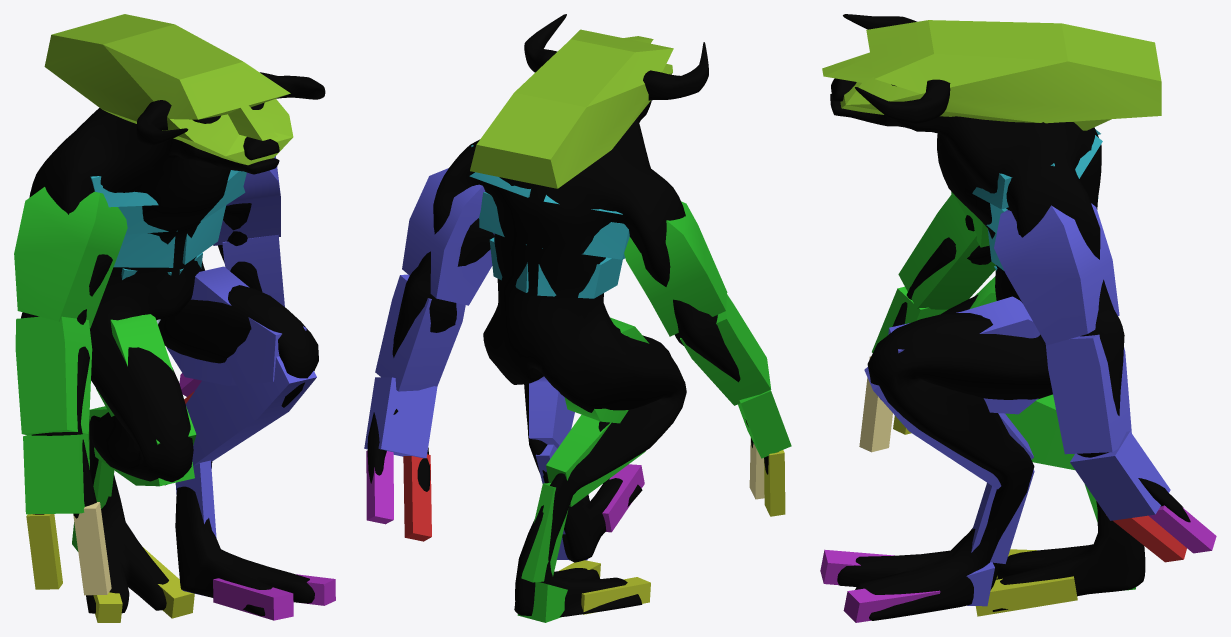
Rendered from Monstre.glb.
3 views of the same model, side by side, from view 1: azimuth 30°, elevation 25°; view 2: azimuth 150°, elevation 25°; view 3: azimuth 270°, elevation 25° (orthographic). The views are drawn at different scales.
Visible parts, largest first — view 1: Box01, Bip01 Head, Bip01 R UpperArm, Bip01 R Forearm, Bip01 L Calf, Bip01 R Hand, Bip01 L Thigh, Bip01 Spine1, Bip01 L UpperArm, Bip01 L Forearm, Bip01 L Toe1, Bip01 R Thigh (+14 smaller); view 2: Box01, Bip01 Head, Bip01 L UpperArm, Bip01 R UpperArm, Bip01 L Forearm, Bip01 L Hand, Bip01 R Forearm, Bip01 R Calf, Bip01 L Calf, Bip01 R Hand, Bip01 R HorseLink, Bip01 Spine2 (+9 smaller); view 3: Box01, Bip01 Head, Bip01 L UpperArm, Bip01 L Forearm, Bip01 R Forearm, Bip01 L Hand, Bip01 R Calf, Bip01 L Thigh, Bip01 R Toe1, Bip01 L Calf, Bip01 L HorseLink, Bip01 L Toe0 (+9 smaller).
Part boxes in pixels (left/top/right/bottom): Box01: left=21, top=72, right=325, bottom=616; Bip01 Head: left=44, top=14, right=293, bottom=165; Bip01 R UpperArm: left=14, top=187, right=127, bottom=328; Bip01 R Forearm: left=15, top=316, right=92, bottom=435; Bip01 L Calf: left=185, top=354, right=316, bottom=465; Bip01 R Hand: left=23, top=433, right=89, bottom=514; Bip01 L Thigh: left=166, top=266, right=306, bottom=385; Bip01 Spine1: left=113, top=205, right=225, bottom=267; Bip01 L UpperArm: left=213, top=156, right=280, bottom=245; Bip01 L Forearm: left=222, top=234, right=284, bottom=306; Bip01 L Toe1: left=213, top=578, right=293, bottom=620; Bip01 R Thigh: left=96, top=314, right=196, bottom=445; Box01: left=367, top=14, right=777, bottom=616; Bip01 Head: left=470, top=29, right=673, bottom=188; Bip01 L UpperArm: left=402, top=168, right=494, bottom=305; Bip01 R UpperArm: left=624, top=201, right=727, bottom=336; Bip01 L Forearm: left=375, top=274, right=465, bottom=391; Bip01 L Hand: left=364, top=377, right=437, bottom=458; Bip01 R Forearm: left=680, top=294, right=771, bottom=405; Bip01 R Calf: left=546, top=414, right=645, bottom=506; Bip01 L Calf: left=529, top=381, right=574, bottom=448; Bip01 R Hand: left=738, top=390, right=791, bottom=458; Bip01 R HorseLink: left=521, top=483, right=567, bottom=582; Bip01 Spine2: left=479, top=192, right=629, bottom=259; Box01: left=830, top=14, right=1190, bottom=620; Bip01 Head: left=822, top=20, right=1161, bottom=130; Bip01 L UpperArm: left=994, top=203, right=1119, bottom=345; Bip01 L Forearm: left=1045, top=334, right=1131, bottom=454; Bip01 R Forearm: left=898, top=193, right=995, bottom=309; Bip01 L Hand: left=1070, top=431, right=1170, bottom=520; Bip01 R Calf: left=899, top=394, right=1074, bottom=469; Bip01 L Thigh: left=888, top=296, right=1040, bottom=414; Bip01 R Toe1: left=975, top=576, right=1077, bottom=616; Bip01 L Calf: left=864, top=367, right=1033, bottom=489; Bip01 L HorseLink: left=971, top=469, right=1034, bottom=563; Bip01 L Toe0: left=843, top=588, right=940, bottom=622.
Bounding box in the file's own units: 11.7 × 17.79 × 11.05.
